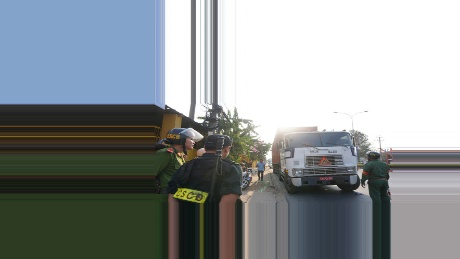plate: (318, 174, 336, 183)
